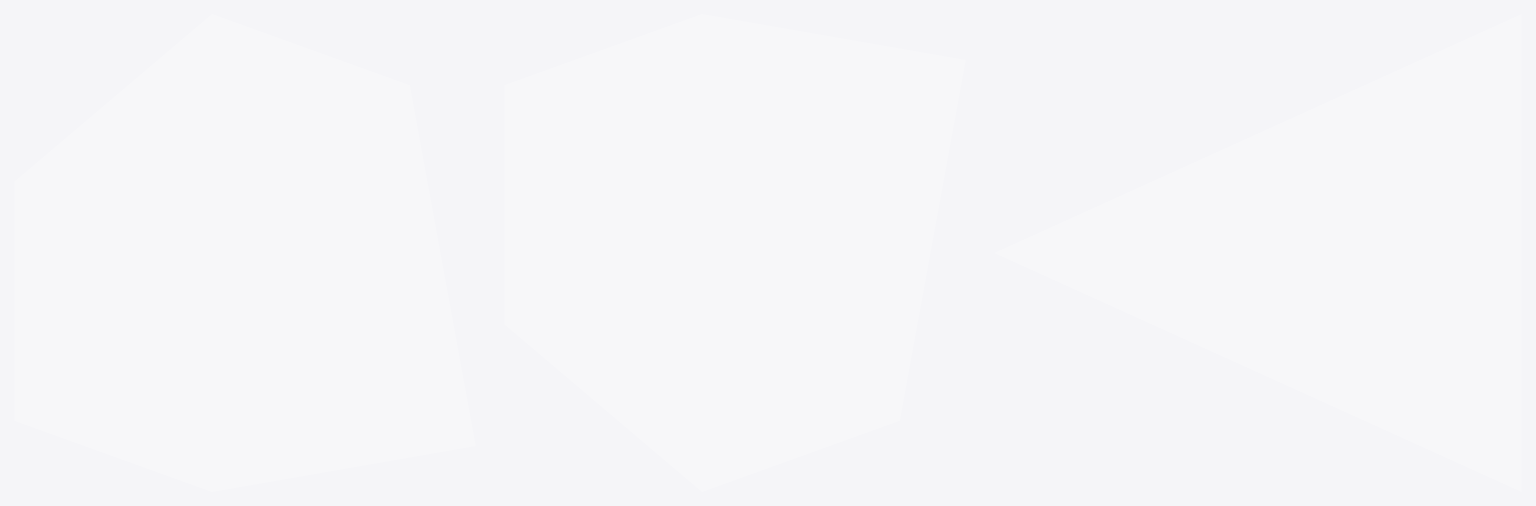
The model's file is spotlightlight.glb.
3 renders of one model, left to right at view 1: azimuth 30°, elevation 25°; view 2: azimuth 150°, elevation 25°; view 3: azimuth 270°, elevation 25°, orthographic.
Parts seen in each view (by area): view 1: Cone; view 2: Cone; view 3: Cone.
Part boxes in pixels (x1,y1,x2,y2): Cone: (15,14,474,491); Cone: (505,14,964,491); Cone: (996,15,1520,490).
Size of the model in its own units: 1.73 by 2 by 2.
Materials: 1 (1 with a texture image).
